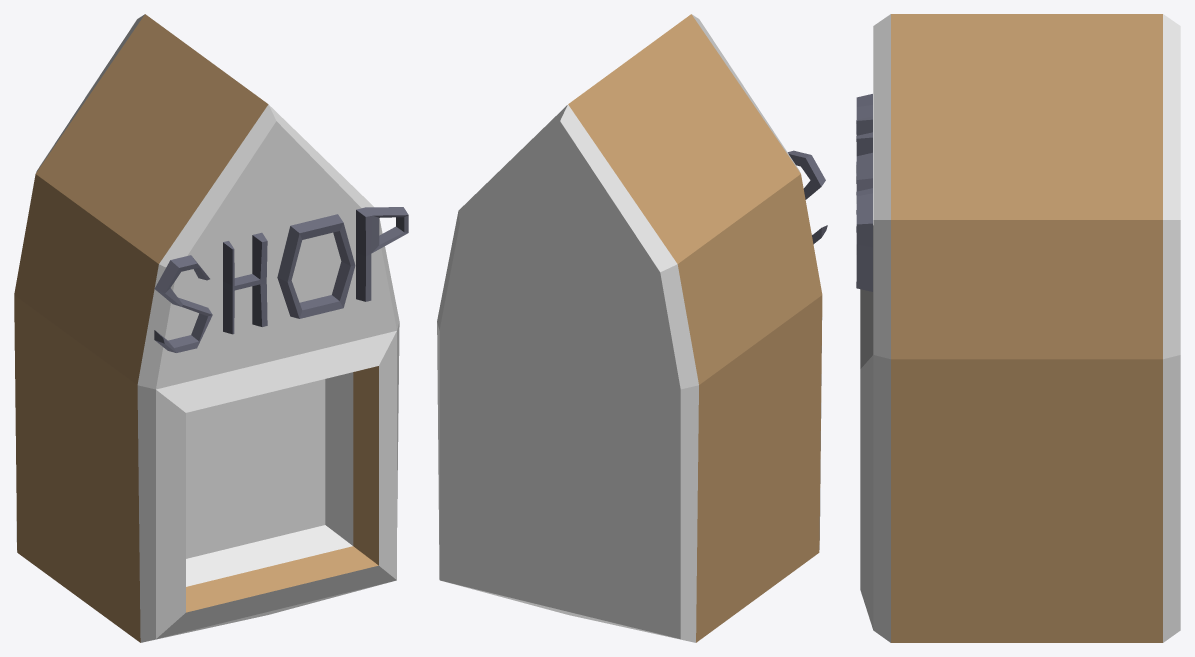
Rendered from shop.fbx.
The picture shows the model from 3 angles, left to right: view 1: azimuth 30°, elevation 25°; view 2: azimuth 150°, elevation 25°; view 3: azimuth 270°, elevation 25°; orthographic projection. The views are drawn at different scales.
Visible parts, largest first — view 1: Cube.009; view 2: Cube.009; view 3: Cube.009.
Boxes of the visible parts, x1,y1,x2,y2 form: Cube.009: [14, 14, 408, 642]; Cube.009: [437, 14, 827, 642]; Cube.009: [856, 14, 1180, 642].
Size of the model in its own units: 2.17 by 4.05 by 2.11.
